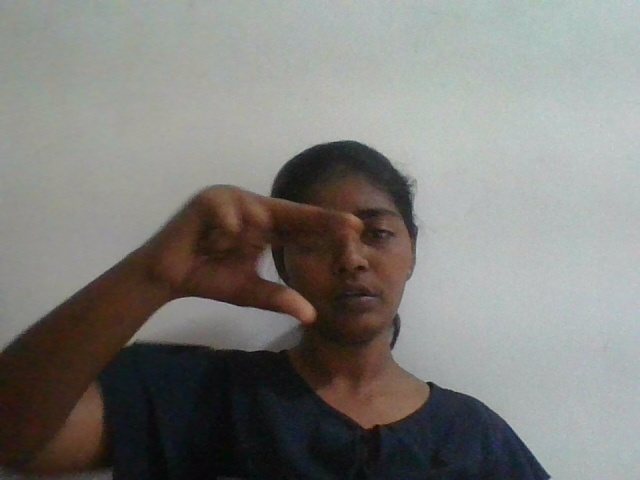No: (137, 173, 374, 338)
